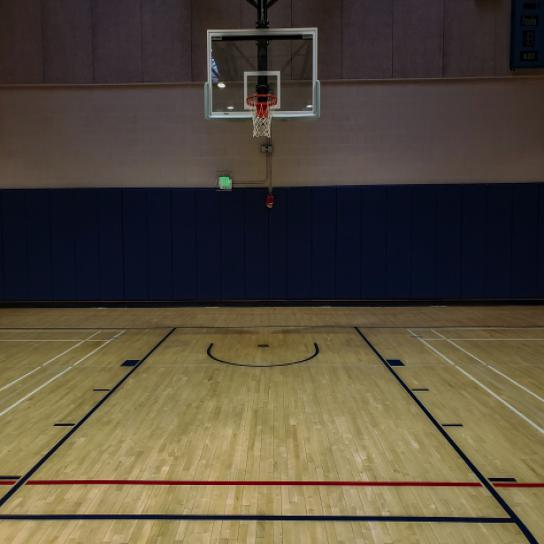basketball-hoop: (244, 90, 280, 140)
